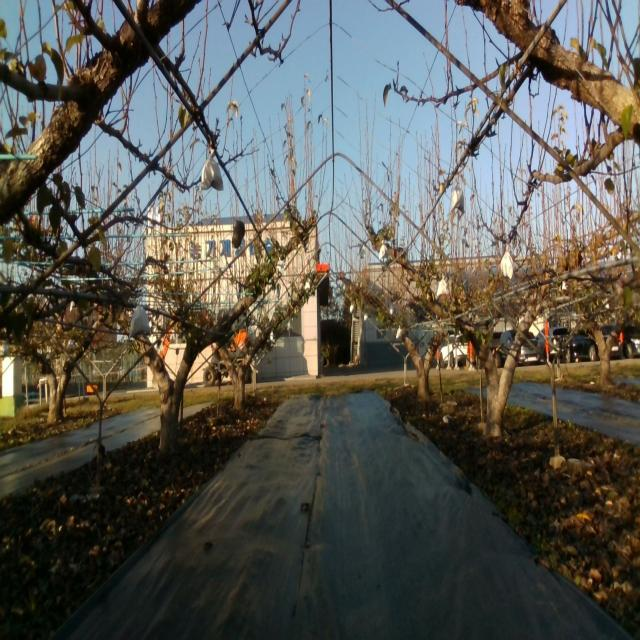pearbags: (201, 148, 224, 192), (130, 305, 152, 340), (500, 252, 514, 282), (451, 184, 464, 213), (436, 272, 449, 296)
